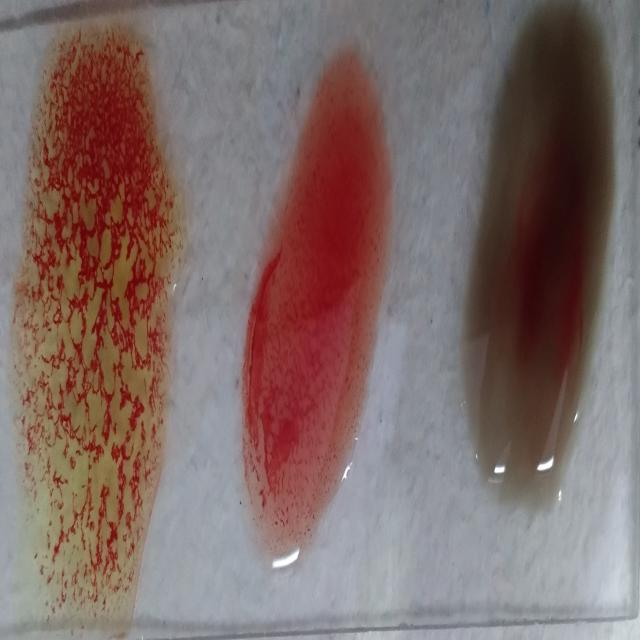B: (19, 34, 171, 618)
D: (252, 29, 384, 560)
